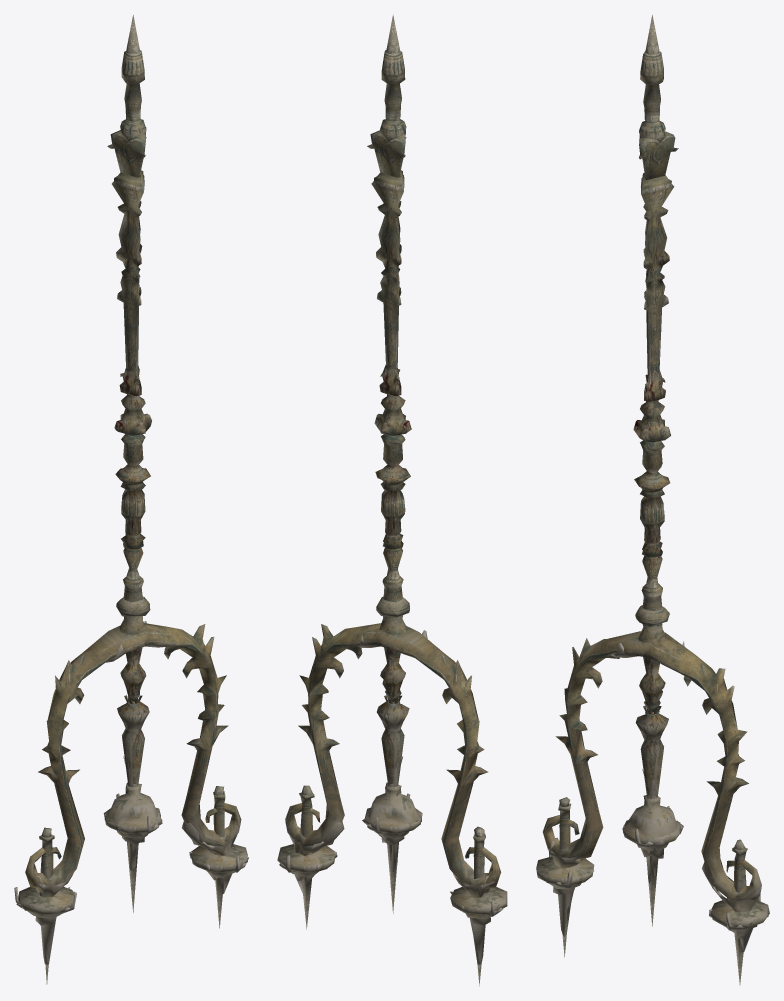
The model's file is le_pd_girandole.glb.
3 renders of one model, left to right at view 1: azimuth 30°, elevation 25°; view 2: azimuth 150°, elevation 25°; view 3: azimuth 330°, elevation 25°, orthographic.
Visible parts, largest first — view 1: Inquisitor'sGirandole; view 2: Inquisitor'sGirandole; view 3: Inquisitor'sGirandole.
Part boxes in pixels (<box>): Inquisitor'sGirandole: <box>14,15,248,984</box>; Inquisitor'sGirandole: <box>277,14,507,986</box>; Inquisitor'sGirandole: <box>536,15,769,985</box>.
Bounding box in the file's own units: 35.44 × 143 × 8.76.
Materials: 1 (1 with a texture image).
